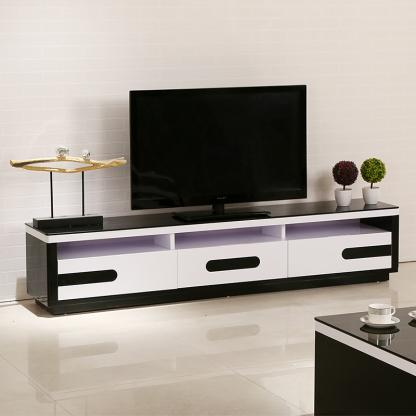Ceramic floor: (0, 284, 391, 416)
TV stand: (25, 204, 401, 317)
